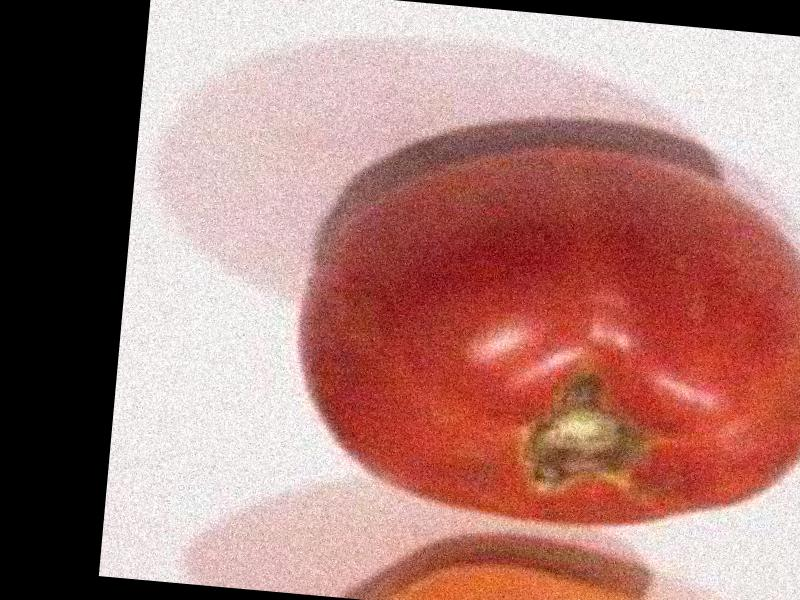Tomato: (289, 129, 800, 544)
